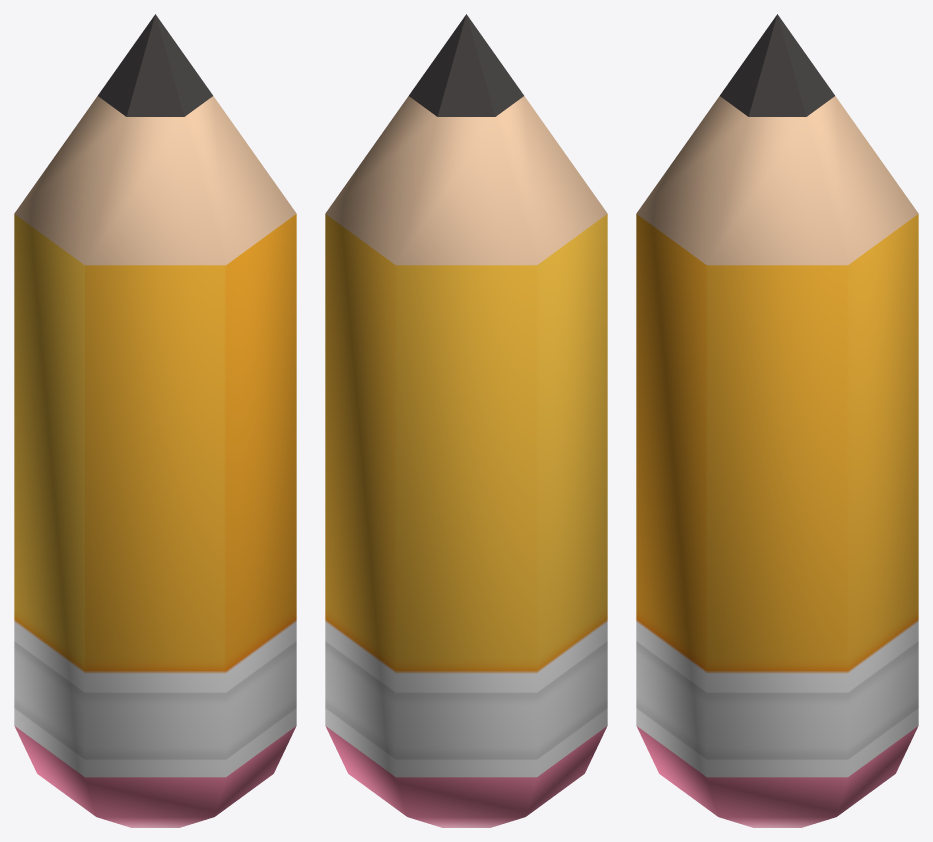
Rendered from pencil.FBX.
3 renders of one model, left to right at view 1: azimuth 30°, elevation 25°; view 2: azimuth 150°, elevation 25°; view 3: azimuth 270°, elevation 25°, orthographic.
Visible parts, largest first — view 1: pencil; view 2: pencil; view 3: pencil.
Part boxes in pixels (x1,y1,x2,y2): pencil: (14,14,296,827); pencil: (325,14,607,827); pencil: (636,14,918,827).
Size of the model in its own units: 11.19 by 40.19 by 12.92.
